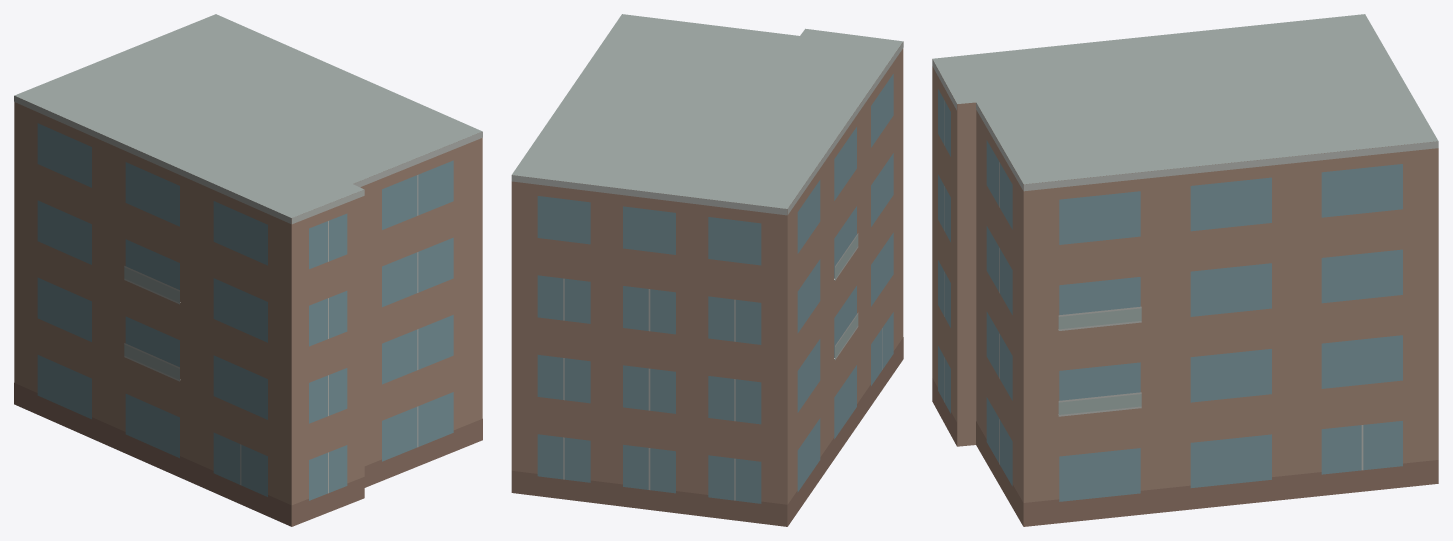
File: survey-upis-32612934.glb
3 views of the same model, side by side, from view 1: azimuth 30°, elevation 25°; view 2: azimuth 150°, elevation 25°; view 3: azimuth 270°, elevation 25° (orthographic). The views are drawn at different scales.
Parts seen in each view (by area): view 1: survey-upis-32612934.tmp; view 2: survey-upis-32612934.tmp; view 3: survey-upis-32612934.tmp.
Boxes of the visible parts, box(x1,y1,x2,y2) form: survey-upis-32612934.tmp: box(14, 14, 482, 526); survey-upis-32612934.tmp: box(511, 14, 903, 526); survey-upis-32612934.tmp: box(932, 14, 1438, 526).
Bounding box in the file's own units: 12.88 × 12.07 × 16.18.
